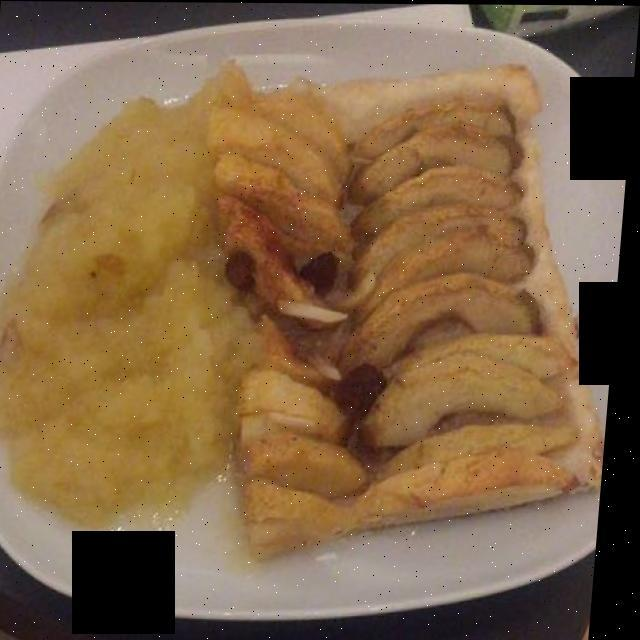apple-pie: (209, 66, 604, 544)
applesauce: (0, 65, 253, 551)
